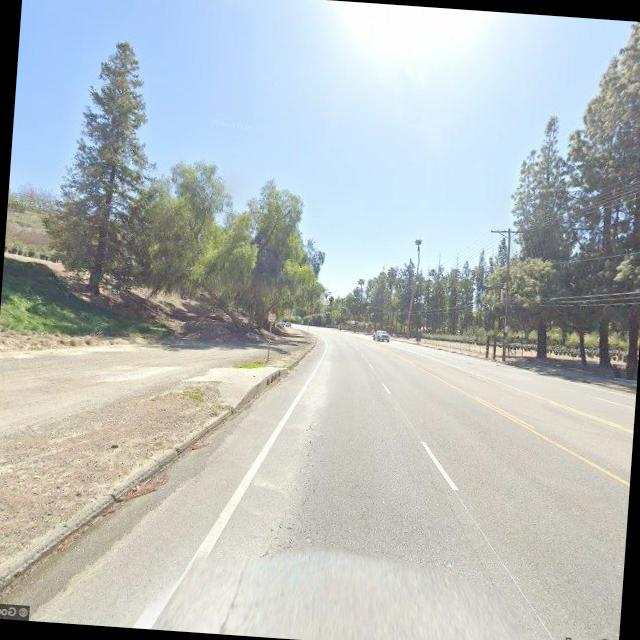crack: (264, 421, 335, 551)
